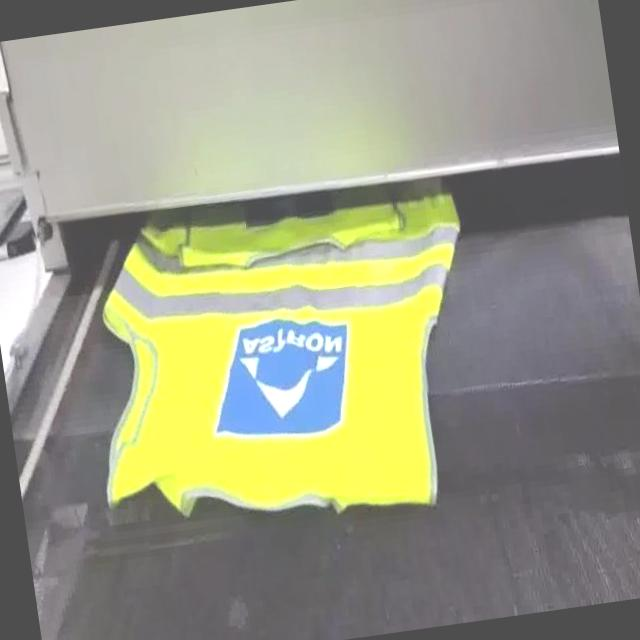vest: (64, 182, 500, 554)
